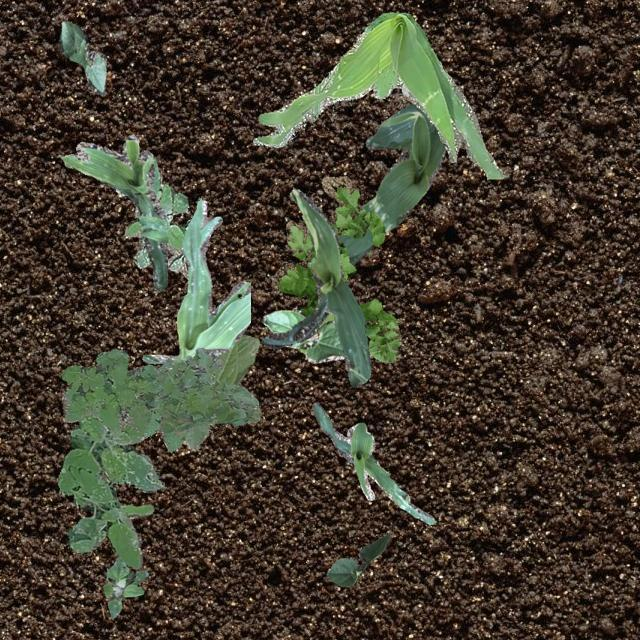crop: (260, 188, 370, 386), (142, 196, 250, 368), (336, 103, 444, 264), (61, 134, 168, 290), (312, 402, 434, 524), (183, 334, 260, 449), (262, 308, 344, 362), (326, 532, 390, 586), (58, 19, 104, 94)
weed: (252, 12, 504, 178), (270, 176, 400, 362), (61, 346, 258, 452), (56, 414, 164, 568), (116, 158, 190, 278), (101, 556, 148, 618)
